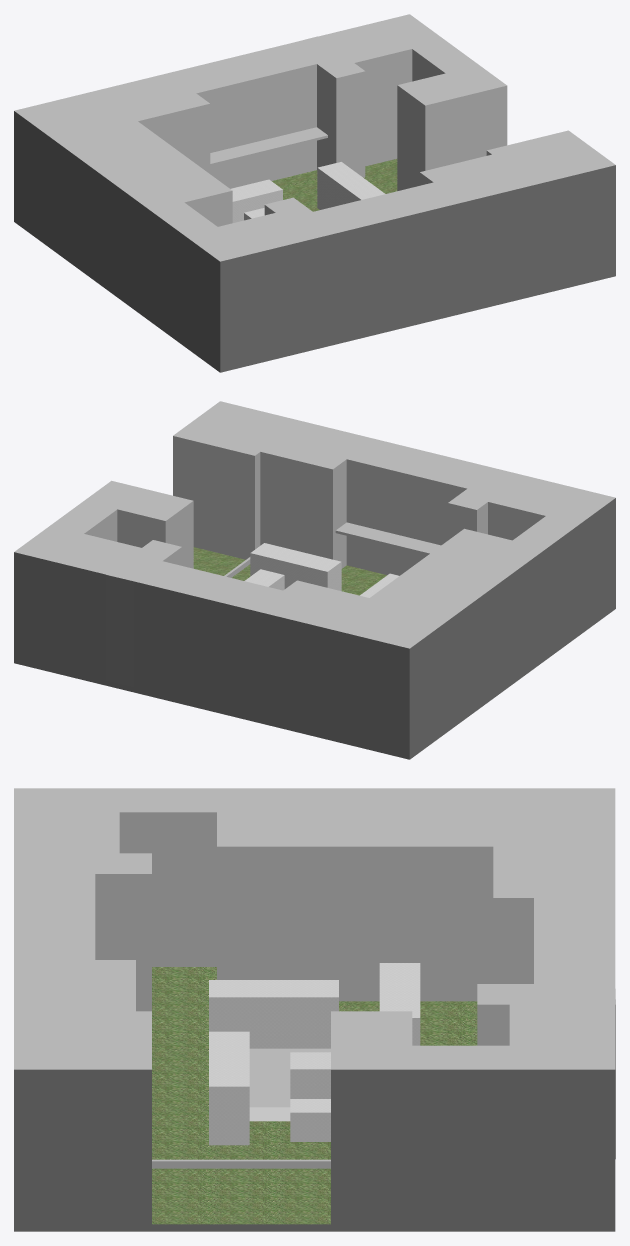
The model's file is Granary Model.fbx.
3 views of the same model, one above another, from view 1: azimuth 30°, elevation 25°; view 2: azimuth 150°, elevation 25°; view 3: azimuth 270°, elevation 25° (orthographic). The views are drawn at different scales.
Visible parts, largest first — view 1: Floor Mesh (1), shadow-only Mesh (2), Crate Mesh (1), shadow-only Mesh (1), Ground006 Mesh (1); view 2: Floor Mesh (1), shadow-only Mesh (2), Crate Mesh (1), shadow-only Mesh (1), Ground006 Mesh (1); view 3: Floor Mesh (1), shadow-only Mesh (2), Ground006 Mesh (1), Crate Mesh (1), shadow-only Mesh (1).
Boxes of the visible parts, box(x1,y1,x2,y2) form: Floor Mesh (1): box(14, 14, 615, 261); shadow-only Mesh (2): box(14, 111, 615, 367); Crate Mesh (1): box(231, 162, 385, 222); shadow-only Mesh (1): box(14, 217, 615, 372); Ground006 Mesh (1): box(272, 159, 397, 211); Floor Mesh (1): box(14, 401, 615, 648); shadow-only Mesh (2): box(14, 498, 615, 754); Crate Mesh (1): box(244, 543, 398, 597); shadow-only Mesh (1): box(14, 604, 615, 759); Ground006 Mesh (1): box(193, 547, 386, 595); Floor Mesh (1): box(14, 788, 615, 1168); shadow-only Mesh (2): box(14, 1069, 615, 1224); Ground006 Mesh (1): box(152, 967, 477, 1224); Crate Mesh (1): box(209, 963, 420, 1145); shadow-only Mesh (1): box(14, 1224, 615, 1231).
Bounding box in the file's own units: 82 × 22 × 74.08.
